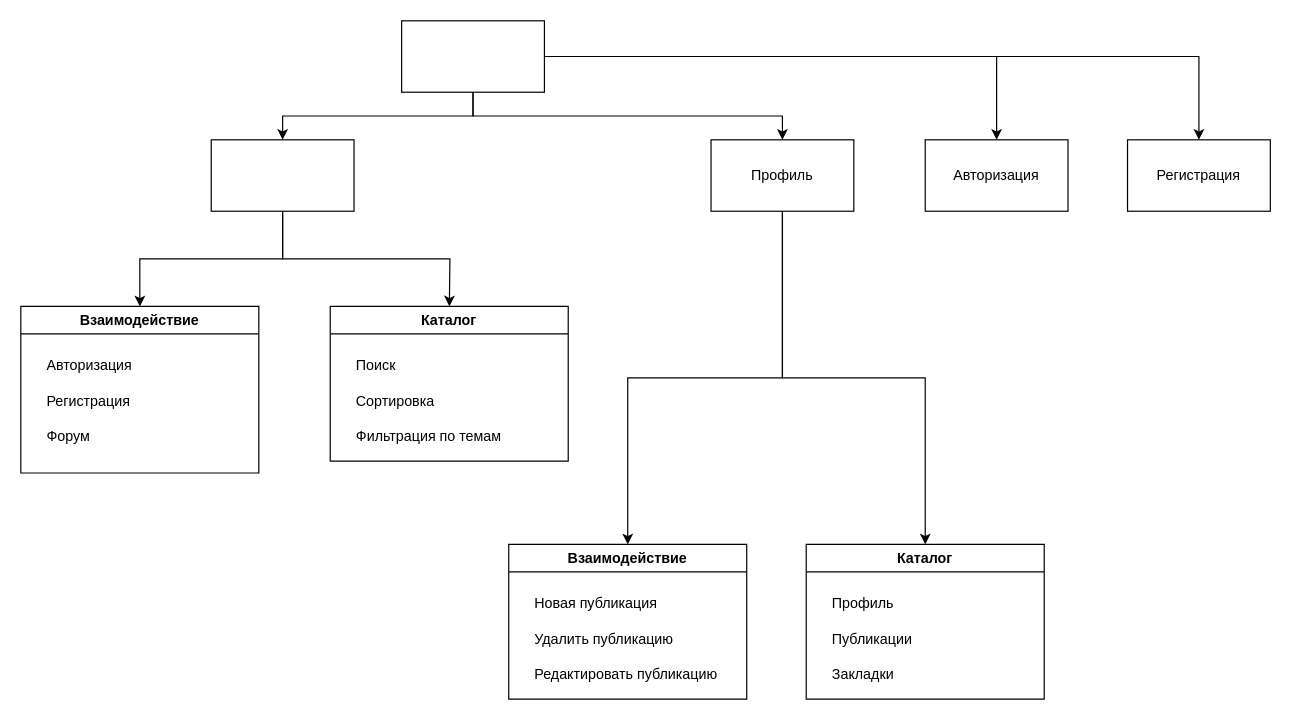
Image size: 1291x720. Some labels were removed from this diagram. The shapes that lost their labels are listed below. From the top down, each one's centre as x and y in pixels, then its label:
At pixel 472 56: "Контент".
At pixel 282 175: "Блог".
